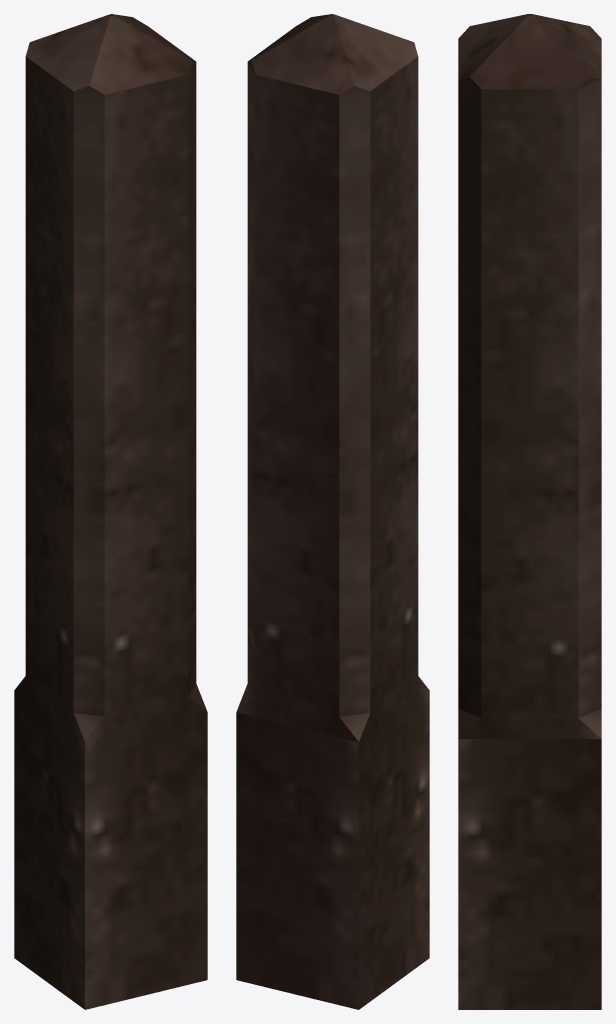
The model's file is square_bollard.fbx.
3 renders of one model, left to right at view 1: azimuth 30°, elevation 25°; view 2: azimuth 150°, elevation 25°; view 3: azimuth 270°, elevation 25°, orthographic.
Parts seen in each view (by area): view 1: square_bollard; view 2: square_bollard; view 3: square_bollard.
Boxes of the visible parts, box(x1,y1,x2,y2) form: square_bollard: box(14, 14, 207, 1009); square_bollard: box(236, 14, 429, 1009); square_bollard: box(458, 14, 601, 1009).
Size of the model in its own units: 18.18 by 135 by 18.18.
1 material, 1 textured.
